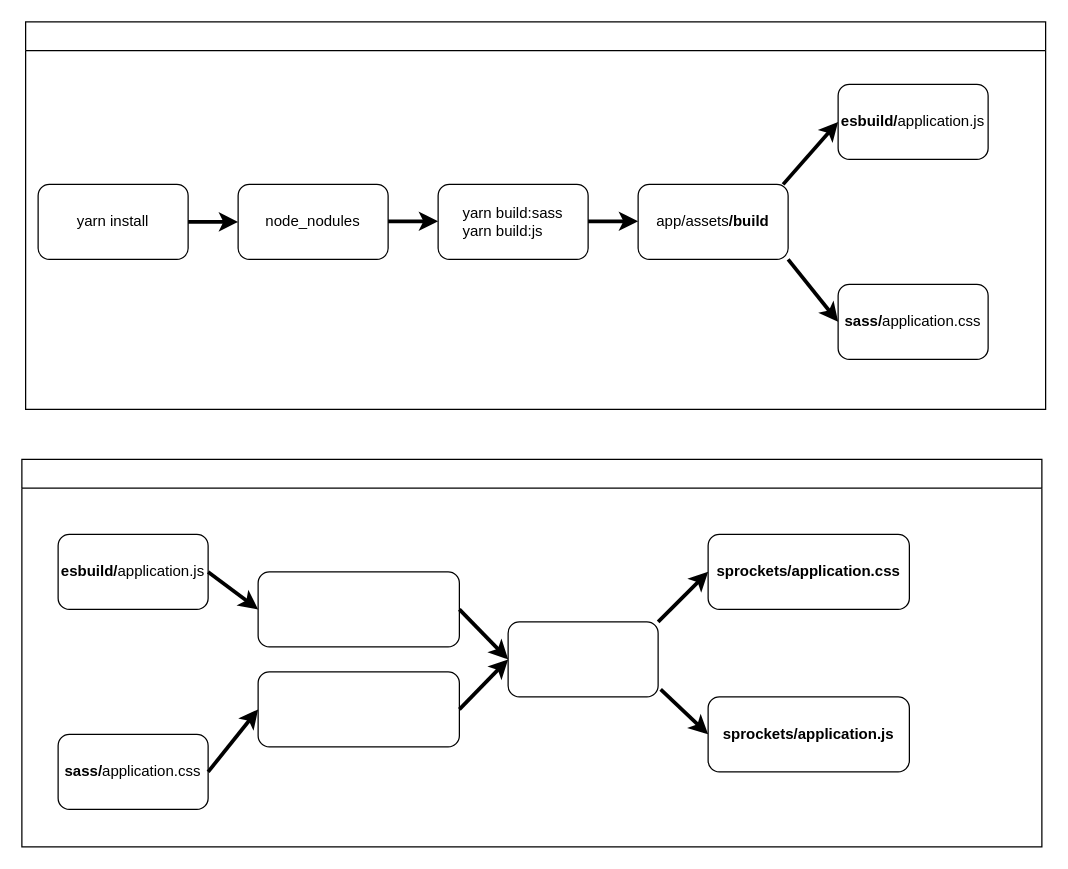
The diagram is 1068 pixels wide and 869 high, and some of its shapes have lost their labels. The shapes that lost their labels are listed below. From the top down, each one's box as (x1, y1, x2, y2) in pixels, then its label:
(24, 21, 1046, 409): Yarn & Front-end Responsibility
(257, 571, 459, 647): app/assets/stylesheets/ sprockets/application.css
(21, 458, 1042, 847): Sprockets & Assets Precompile Responsibility
(507, 621, 658, 697): sprockets assets:precompile
(257, 671, 459, 747): app/javascript / sprockets/application.js
